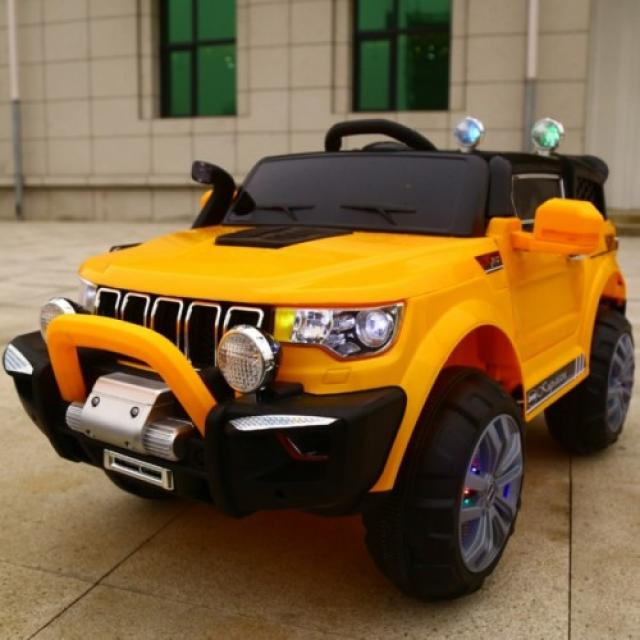Car: (0, 114, 636, 602)
